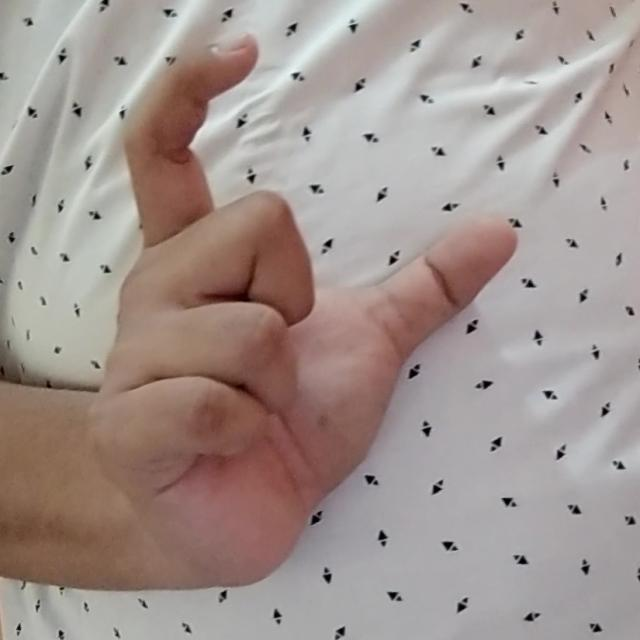U: (78, 20, 536, 605)
